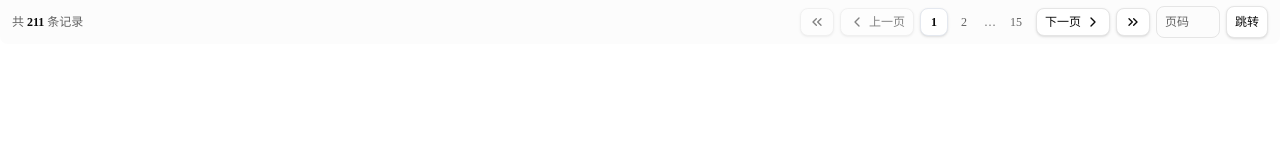
it: TablePagination 客户端模式（跳页） › 空输入提交不跳页，并提示输入页码
The width and height of the screenshot is (1280, 160).
Click the button "跳转". click: click(1247, 22)
box: [1226,6,1268,38]
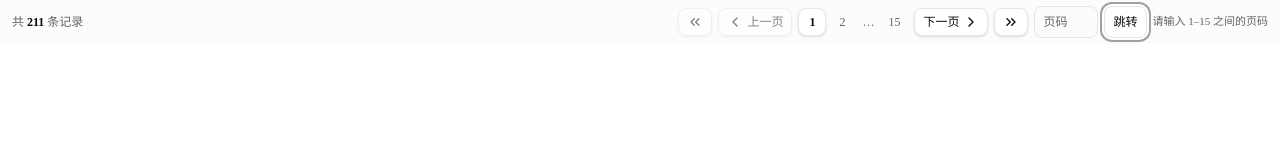
Check: the message shows "请输入", box [1152,15,1268,27]
